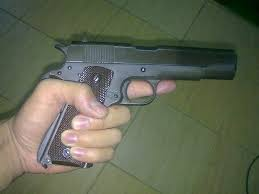gun: (31, 33, 245, 175)
